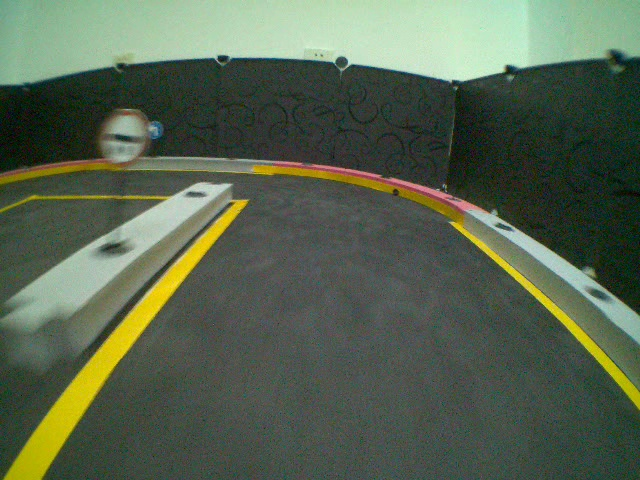Check: (101, 108, 149, 164)
turn: (147, 121, 164, 139)
